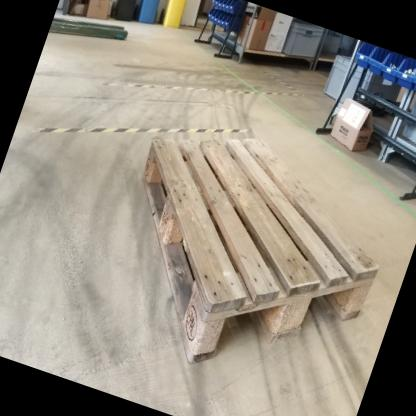BoxFace: (137, 136, 383, 372)
